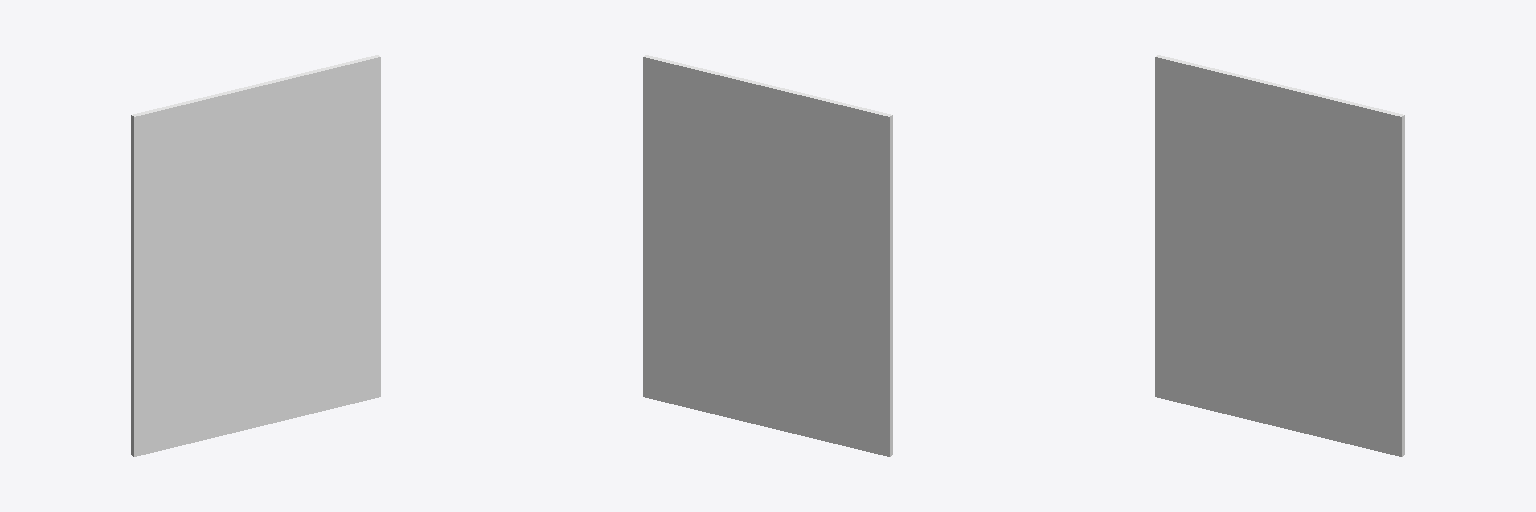
The model's file is Nemo.obj.
The picture shows the model from 3 angles: view 1: azimuth 30°, elevation 25°; view 2: azimuth 150°, elevation 25°; view 3: azimuth 330°, elevation 25°; orthographic projection.
Visible parts, largest first — view 1: object 1; view 2: object 1; view 3: object 1.
Boxes of the visible parts, box(x1,y1,x2,y2) form: object 1: box(131, 55, 380, 456); object 1: box(643, 55, 892, 456); object 1: box(1155, 55, 1404, 456).
Bounding box in the file's own units: 19.4 × 25.6 × 0.4.